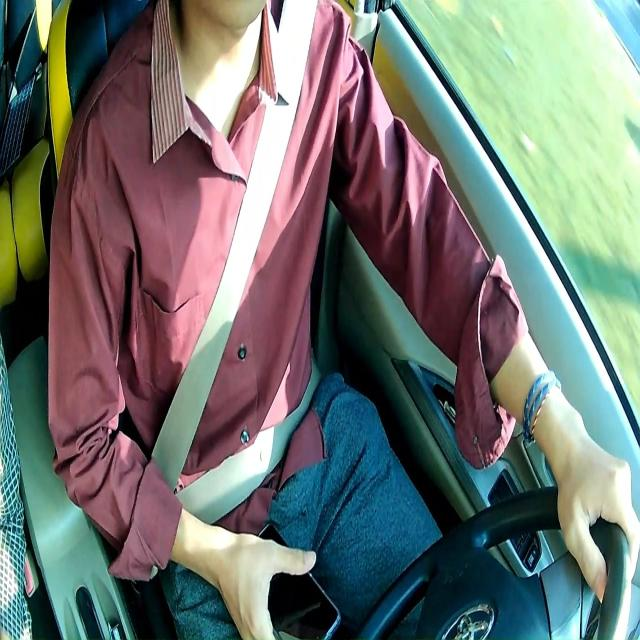phone: (256, 519, 342, 640)
